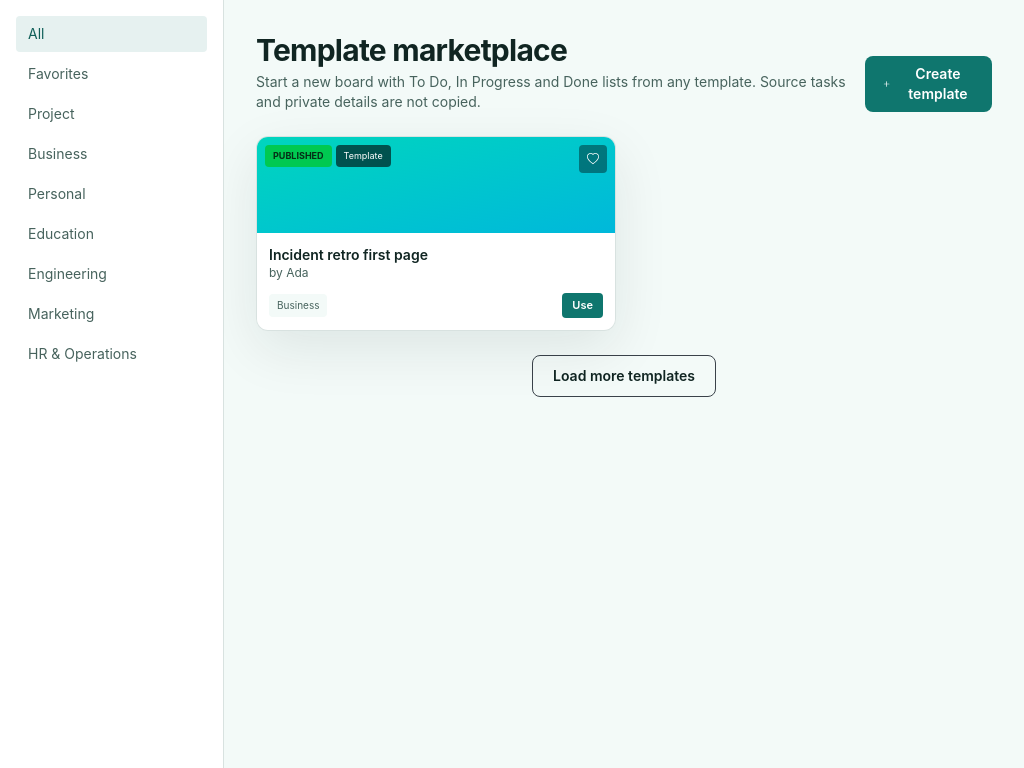
Test: template discovery paging › sends marketplace search to every page and preserves it on load more
This screenshot has width=1024, height=768.
Expected: the button "Incident retro first page" is shown, [269, 245, 603, 265]
What coordinates should you click on to do the following:
click the button "Load more templates"
I would click on:
 (624, 376)
Its box is [532, 354, 716, 396].
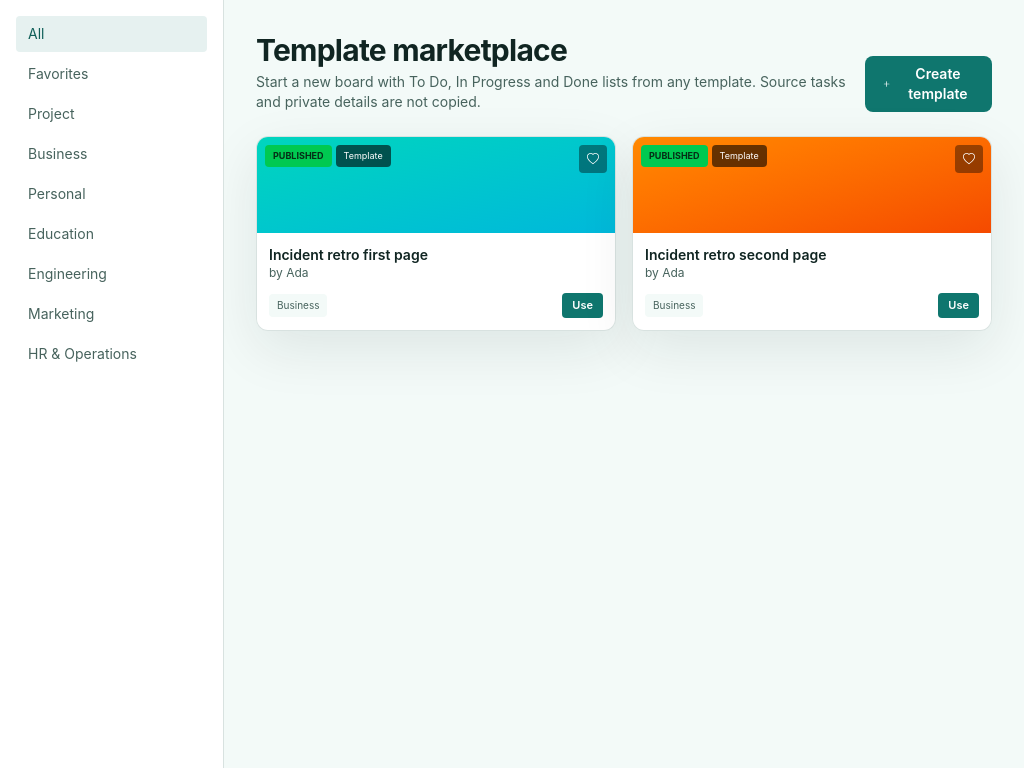
Now the button "Incident retro second page" is shown, box [645, 245, 979, 265]
